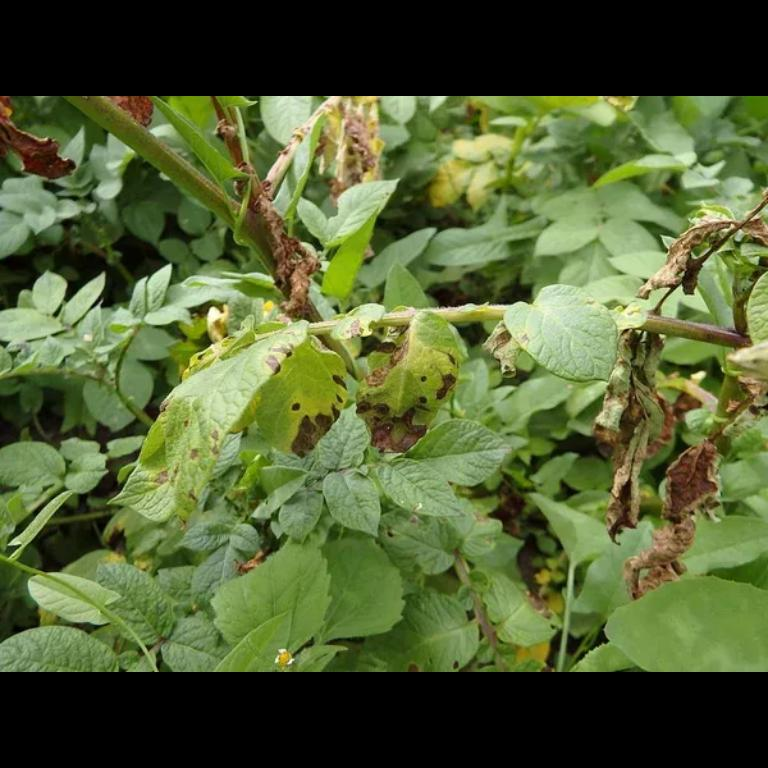blight: (367, 345, 428, 389)
